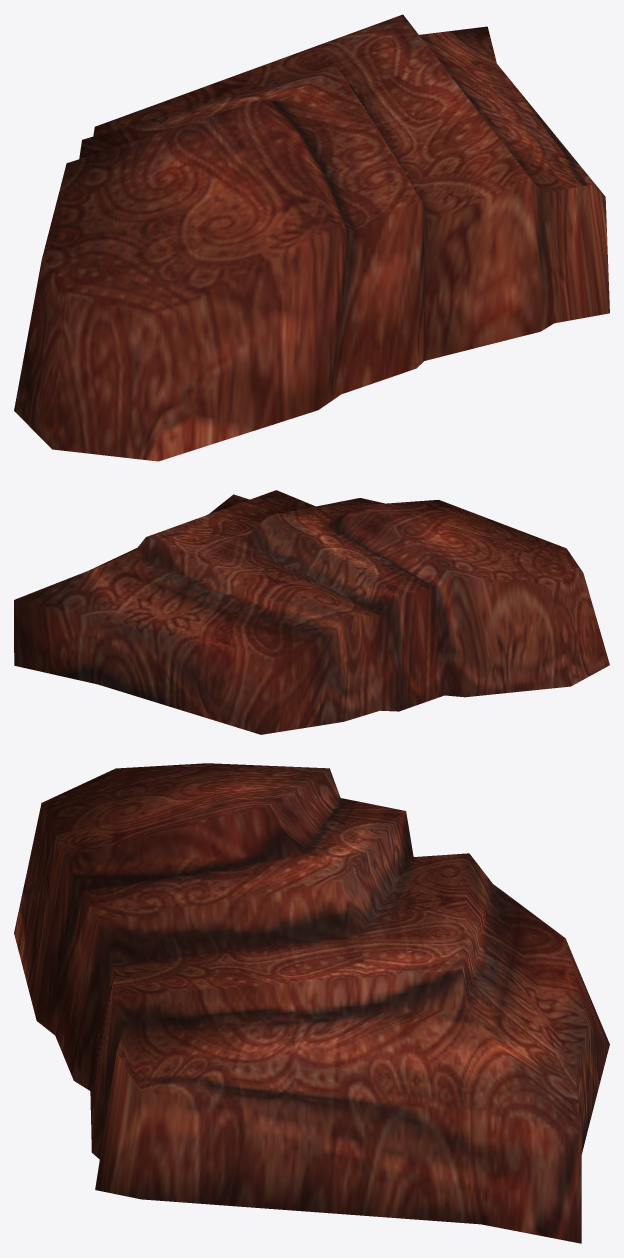
The model's file is Napkin_Folded.fbx.
3 renders of one model, top to bottom at view 1: azimuth 30°, elevation 25°; view 2: azimuth 150°, elevation 25°; view 3: azimuth 270°, elevation 25°, orthographic. The views are drawn at different scales.
Visible parts, largest first — view 1: Napkin_LOD0; view 2: Napkin_LOD0; view 3: Napkin_LOD0.
Part boxes in pixels (box(x1,y1,x2,y2)): Napkin_LOD0: box(14, 14, 609, 461); Napkin_LOD0: box(14, 490, 609, 734); Napkin_LOD0: box(14, 763, 609, 1243).
Size of what is drawn, in the model's own units: 59.1 by 19.17 by 42.76.
